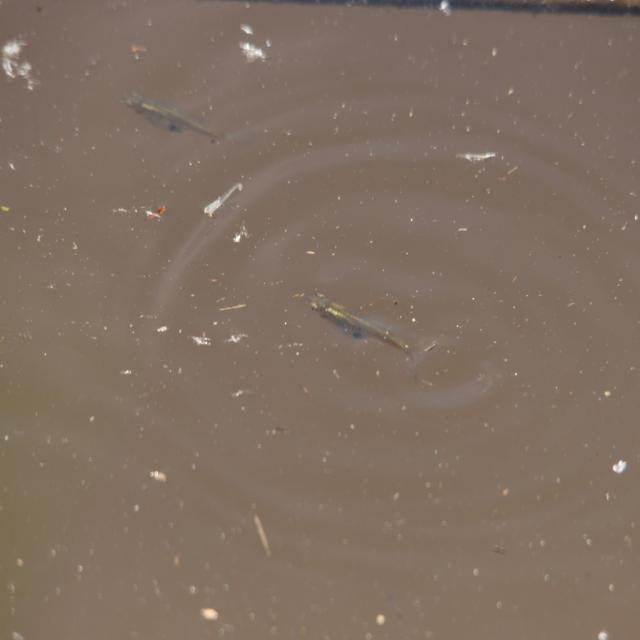Sivrisinek Baligi: (120, 71, 232, 154), (308, 282, 417, 366)
